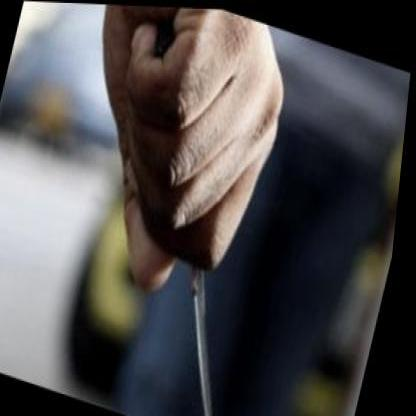knife: (94, 81, 297, 412)
